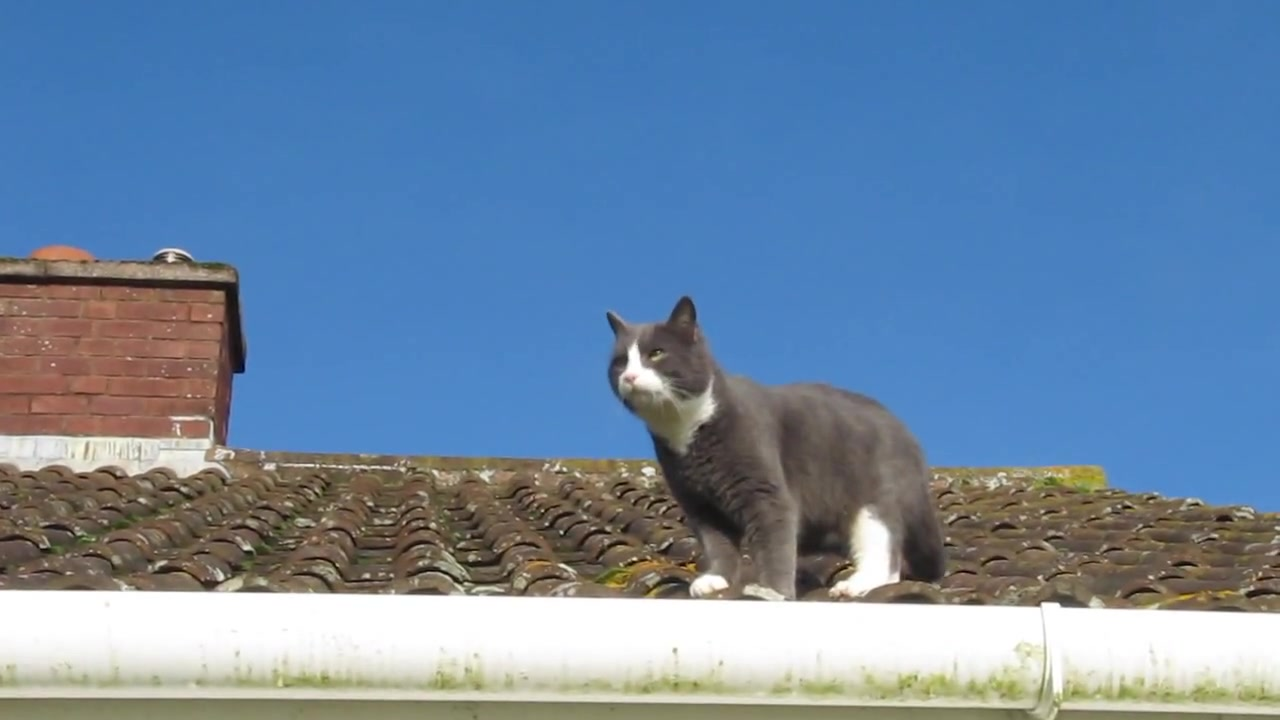cat: (600, 294, 951, 603)
